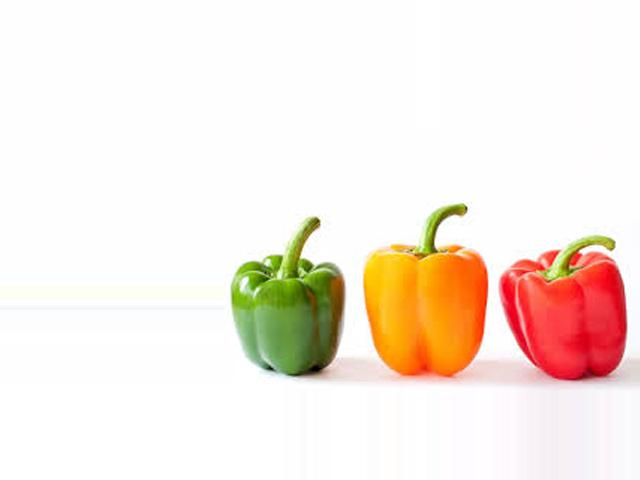bell_pepper: (497, 203, 635, 376)
